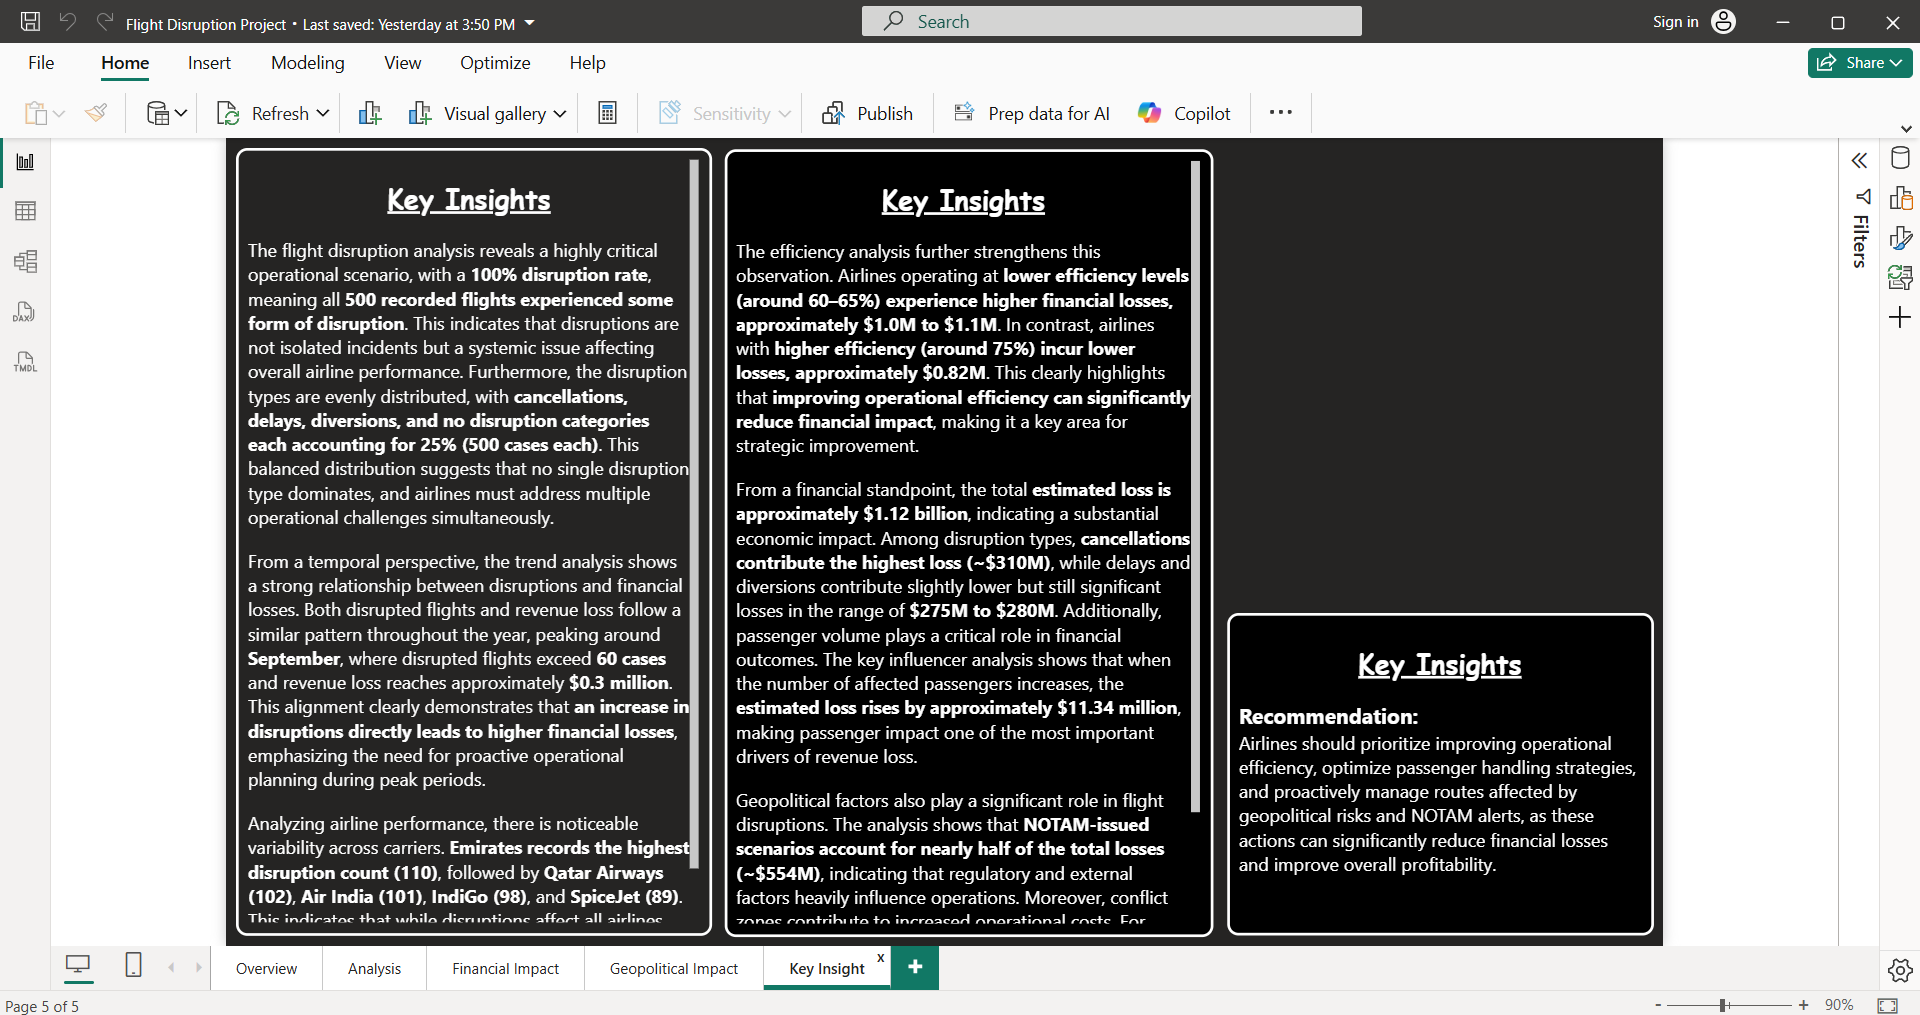

Layout of this report page (visuals, bound fields, positions):
{"tool":"powerbi","page":{"name":"Key Insight","canvas":[1280,720],"ordinal":4},"visuals":[{"type":"textbox","box":[8.8,8.8,423.8,701.2],"z":0},{"type":"textbox","box":[443.8,10,435,701.2],"z":1},{"type":"textbox","box":[891.2,422.5,380,287.5],"z":2}]}

Visuals, with their boxes on the page's 1280x720 design canvas (x1, y1, x2, y2). These are canvas units, not pixel positions in the 1920x1015 screenshot, which may show the page scaled, cropped or inside an application window:
textbox: locate(9, 9, 433, 710)
textbox: locate(444, 10, 879, 711)
textbox: locate(891, 422, 1271, 710)
